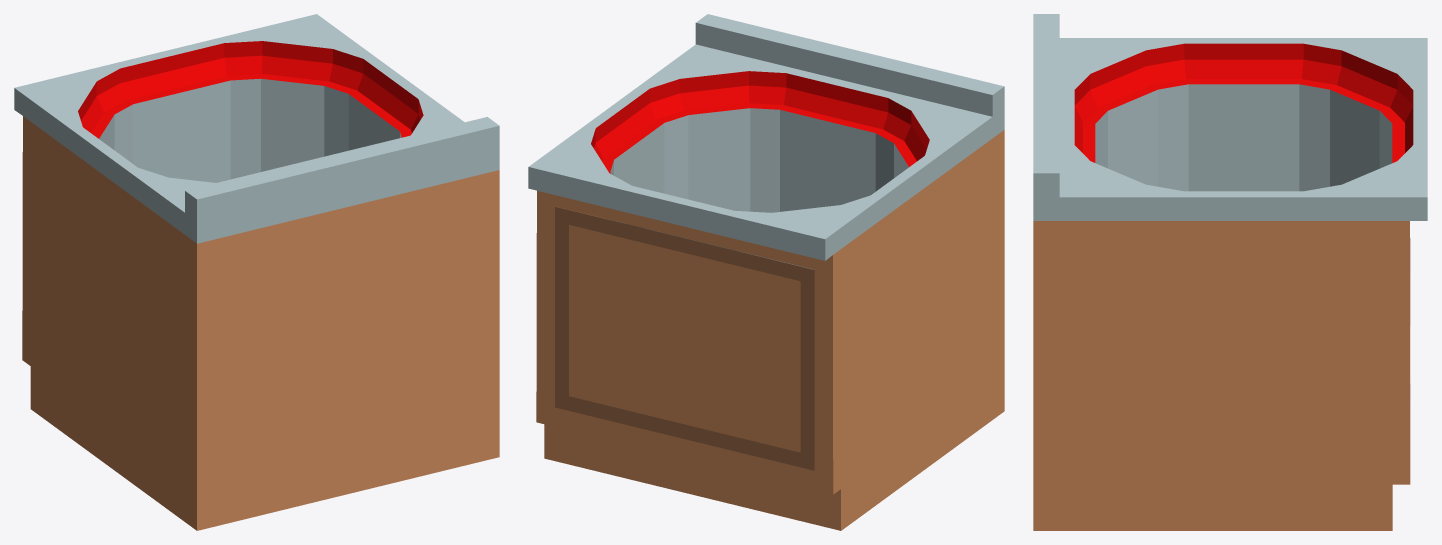
Rendered from Painter.FBX.
3 renders of one model, left to right at view 1: azimuth 30°, elevation 25°; view 2: azimuth 150°, elevation 25°; view 3: azimuth 270°, elevation 25°, orthographic. The views are drawn at different scales.
Parts seen in each view (by area): view 1: kitchenCabinet; view 2: kitchenCabinet, door; view 3: kitchenCabinet.
Boxes of the visible parts, x1=… form: kitchenCabinet: x1=14, y1=14, x2=499, y2=530; kitchenCabinet: x1=528, y1=14, x2=1004, y2=530; door: x1=555, y1=206, x2=814, y2=470; kitchenCabinet: x1=1033, y1=14, x2=1427, y2=530.
Bounding box in the file's own units: 169 × 177 × 177.
